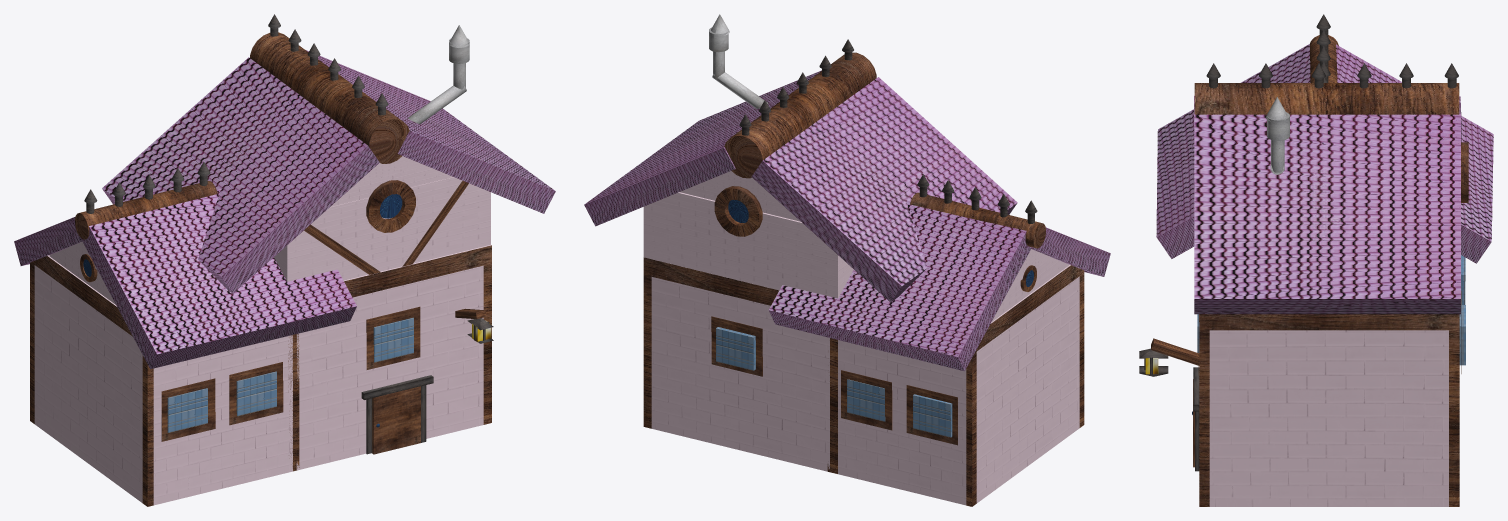
Rendered from CasaHechizos2.fbx.
The picture shows the model from 3 angles, left to right: view 1: azimuth 30°, elevation 25°; view 2: azimuth 150°, elevation 25°; view 3: azimuth 270°, elevation 25°; orthographic projection. The views are drawn at different scales.
Parts seen in each view (by area): view 1: Box036, Box019, Box016, Box034, Box031, Box018, Cylinder007, Box020, Cylinder011, Box035, Tube004, Box032 (+12 smaller); view 2: Box036, Box016, Box019, Box035, Box031, Box018, Cylinder007, Cylinder011, Box034, Tube003, Box043, Box045 (+8 smaller); view 3: Box018, Box016, Cylinder007, Box034, Box035, Cylinder011, Box024, Cylinder010, Tube003, Cylinder009, Box043.
Part boxes in pixels (bbox=[...]): Box036: bbox=[30, 255, 299, 506]; Box019: bbox=[102, 57, 379, 293]; Box016: bbox=[288, 244, 491, 470]; Box034: bbox=[80, 189, 356, 369]; Box031: bbox=[274, 177, 490, 281]; Box018: bbox=[306, 50, 555, 213]; Cylinder007: bbox=[250, 32, 409, 163]; Box020: bbox=[372, 386, 420, 454]; Cylinder011: bbox=[75, 181, 217, 239]; Box035: bbox=[14, 217, 82, 265]; Tube004: bbox=[366, 180, 415, 232]; Box032: bbox=[195, 108, 452, 206]; Box036: bbox=[827, 265, 1084, 506]; Box016: bbox=[643, 257, 837, 473]; Box019: bbox=[751, 77, 1017, 302]; Box035: bbox=[768, 200, 1030, 371]; Box031: bbox=[643, 192, 853, 298]; Box018: bbox=[584, 70, 821, 226]; Cylinder007: bbox=[724, 52, 876, 178]; Cylinder011: bbox=[910, 192, 1045, 248]; Box034: bbox=[1029, 227, 1110, 276]; Tube003: bbox=[714, 186, 762, 236]; Box043: bbox=[716, 327, 755, 370]; Box045: bbox=[913, 394, 952, 437]; Box018: bbox=[1194, 113, 1460, 314]; Box016: bbox=[1199, 314, 1459, 506]; Cylinder007: bbox=[1194, 83, 1459, 114]; Box034: bbox=[1156, 44, 1310, 258]; Box035: bbox=[1336, 44, 1493, 263]; Cylinder011: bbox=[1310, 35, 1338, 82]; Box024: bbox=[1151, 338, 1199, 365]; Cylinder010: bbox=[1267, 112, 1289, 140]; Tube003: bbox=[1461, 142, 1468, 202]; Cylinder009: bbox=[1271, 140, 1284, 172]; Box043: bbox=[1459, 305, 1465, 365].
Size of the model in its own units: 1.84 by 1.57 by 1.22.
